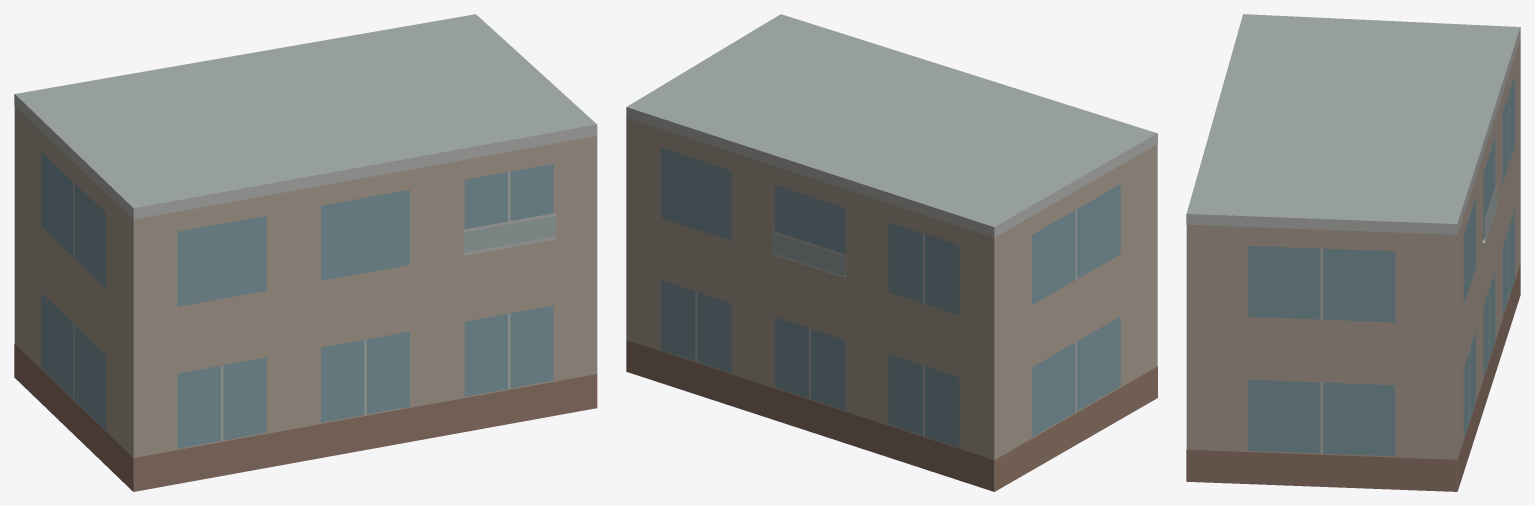
File: survey-upis-32789912.glb
3 views of the same model, side by side, from view 1: azimuth 30°, elevation 25°; view 2: azimuth 150°, elevation 25°; view 3: azimuth 270°, elevation 25° (orthographic). The views are drawn at different scales.
Visible parts, largest first — view 1: survey-upis-32789912.tmp; view 2: survey-upis-32789912.tmp; view 3: survey-upis-32789912.tmp.
Boxes of the visible parts, <box> form: survey-upis-32789912.tmp: <box>14,14,597,491</box>; survey-upis-32789912.tmp: <box>626,14,1157,491</box>; survey-upis-32789912.tmp: <box>1186,14,1520,491</box>.
Bounding box in the file's own units: 10.27 × 6.1 × 6.91.
